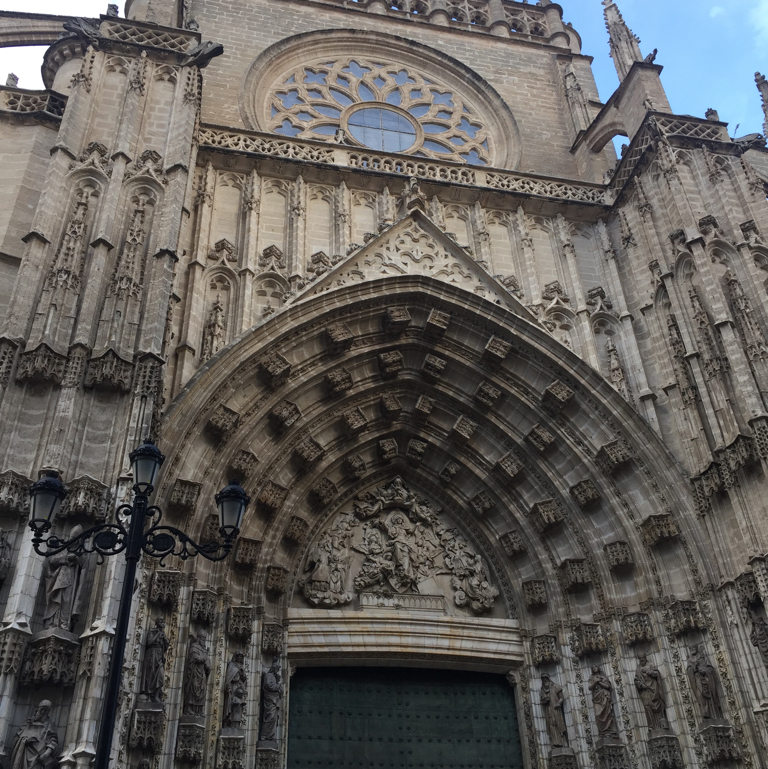arco-apuntado: (210, 371, 606, 604)
